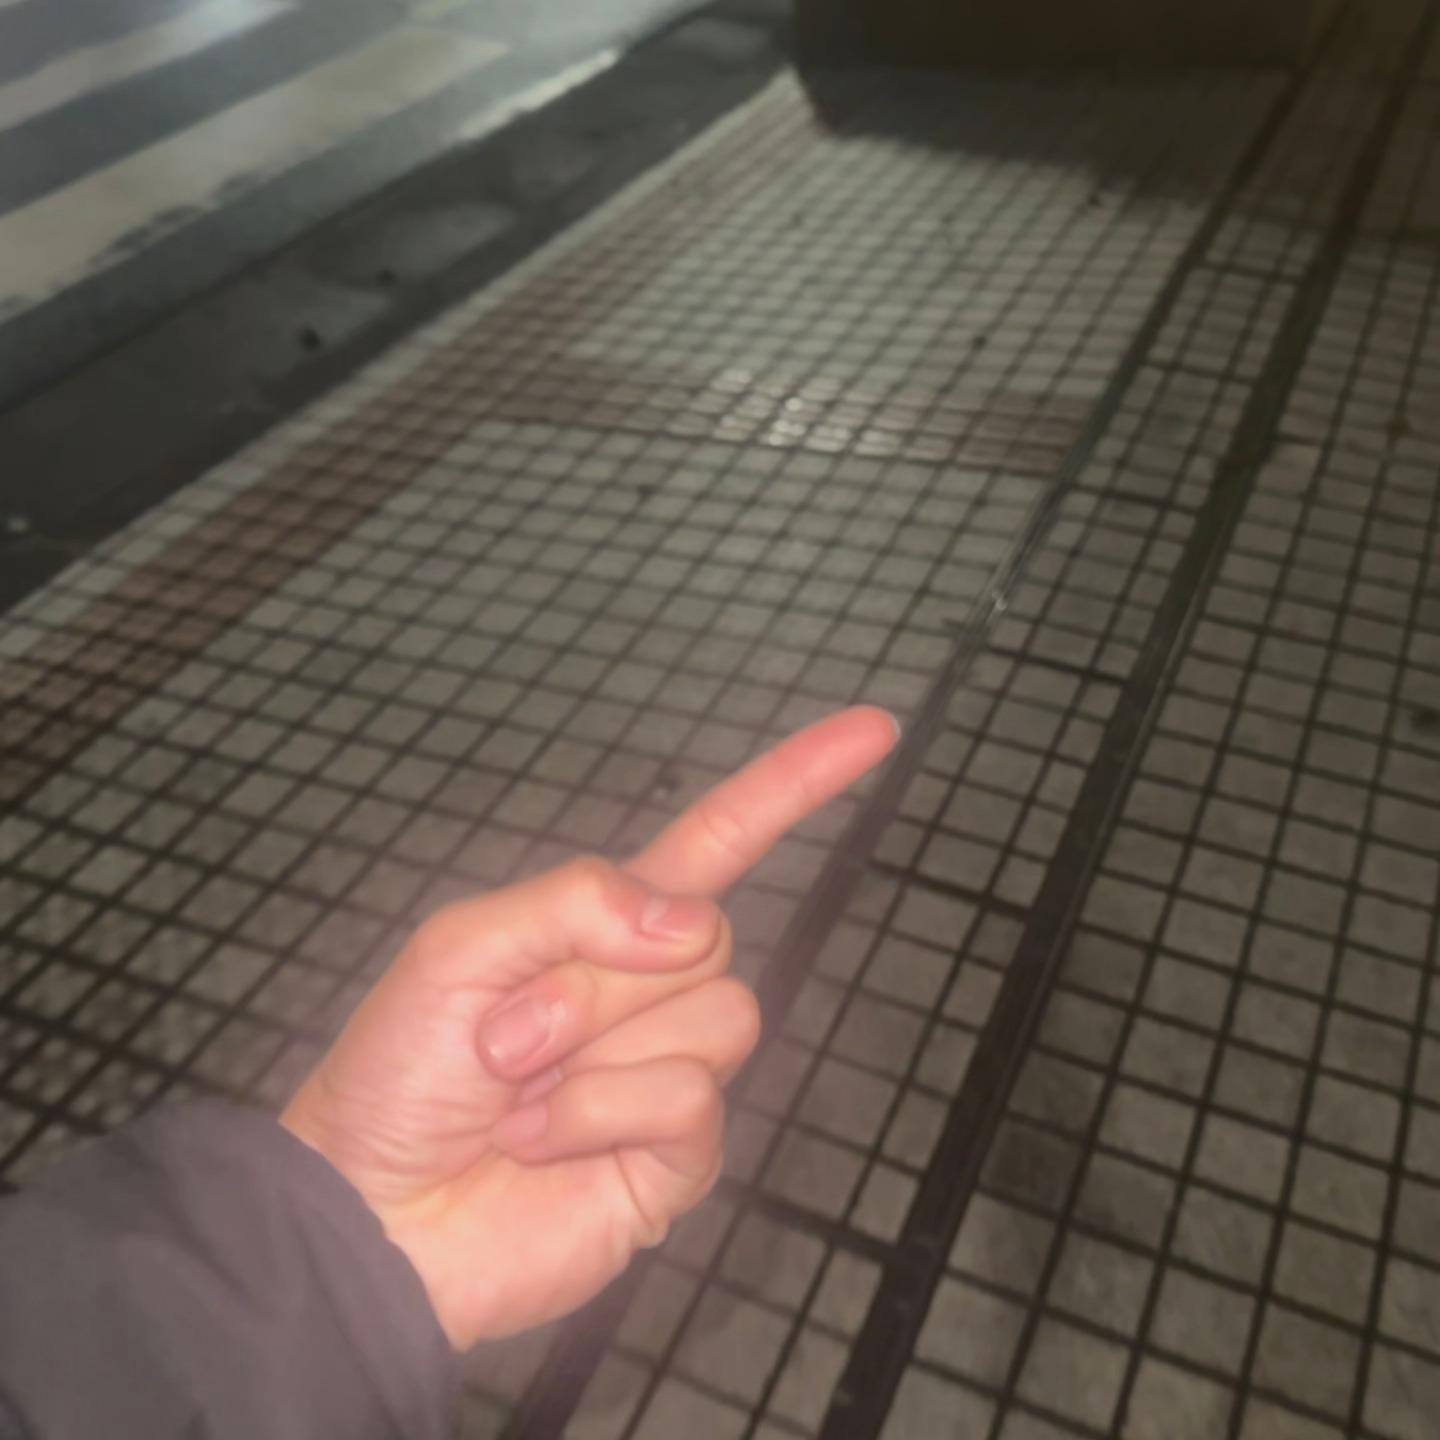without_gloves: (368, 703, 940, 1272)
